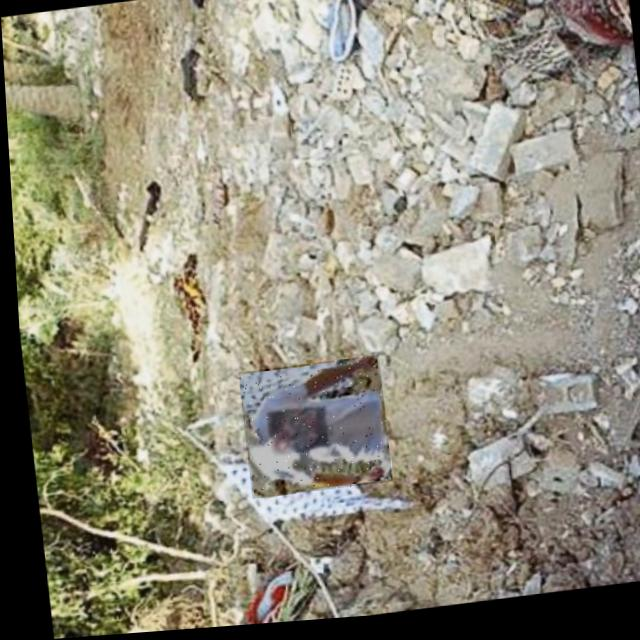Person in Rubble: (233, 359, 386, 502)
